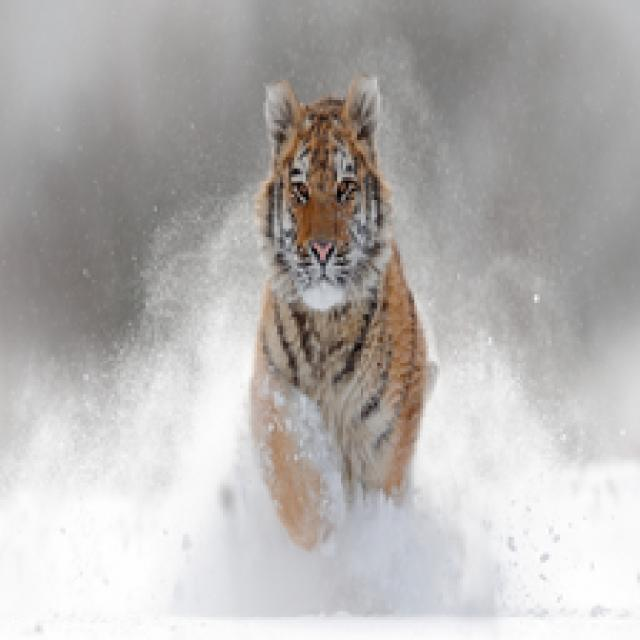tiger: (186, 70, 491, 541)
